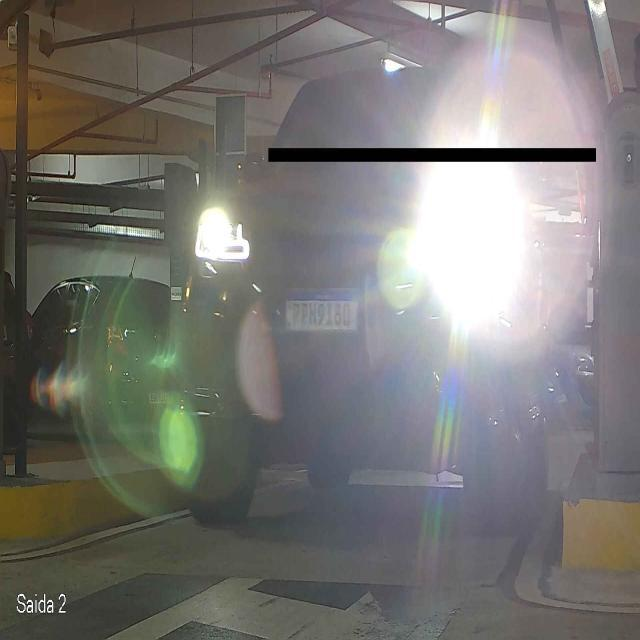mercosul_plate: (282, 285, 362, 334)
